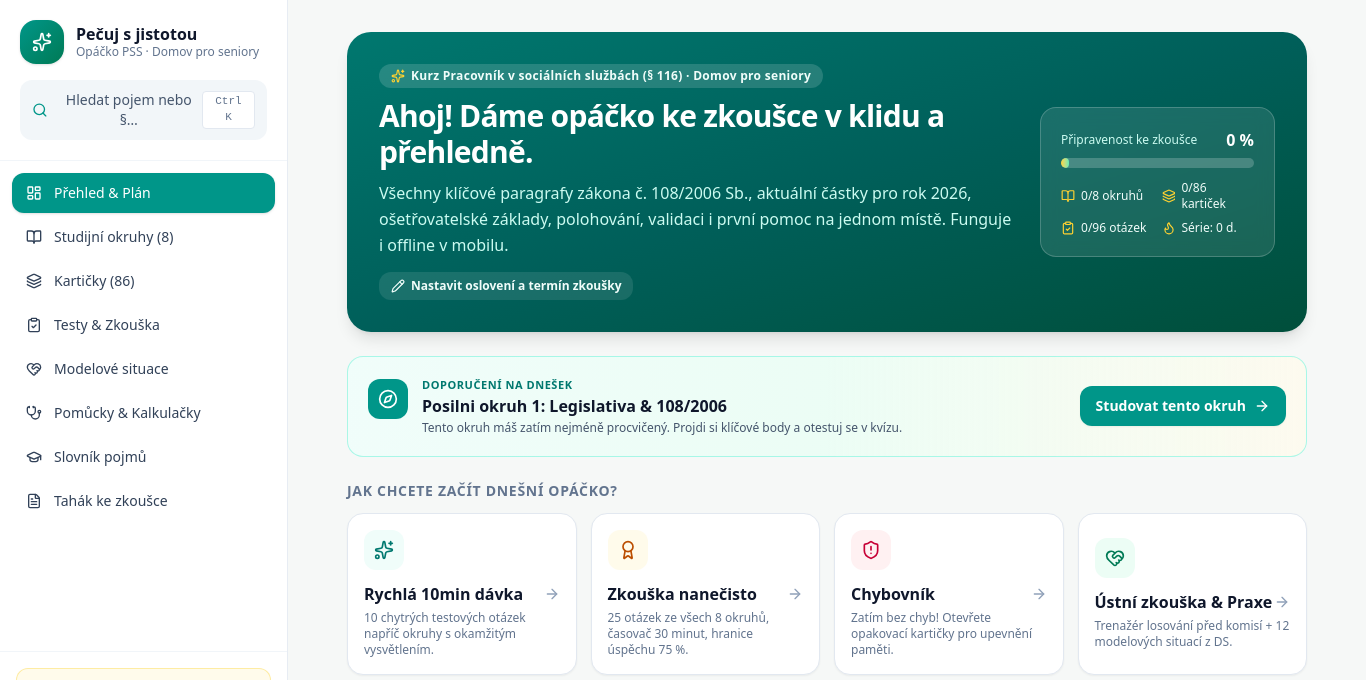
Test: End-to-End UI Integration Flows (<App />) › runs Practice Quiz with immediate explanation and Zkouška nanečisto (25 questions)
This screenshot has width=1366, height=680.
Quick10 from Dashboard
Click the button "Rychlá 10min dávka".
click(462, 594)  # box [347,512,576,674]
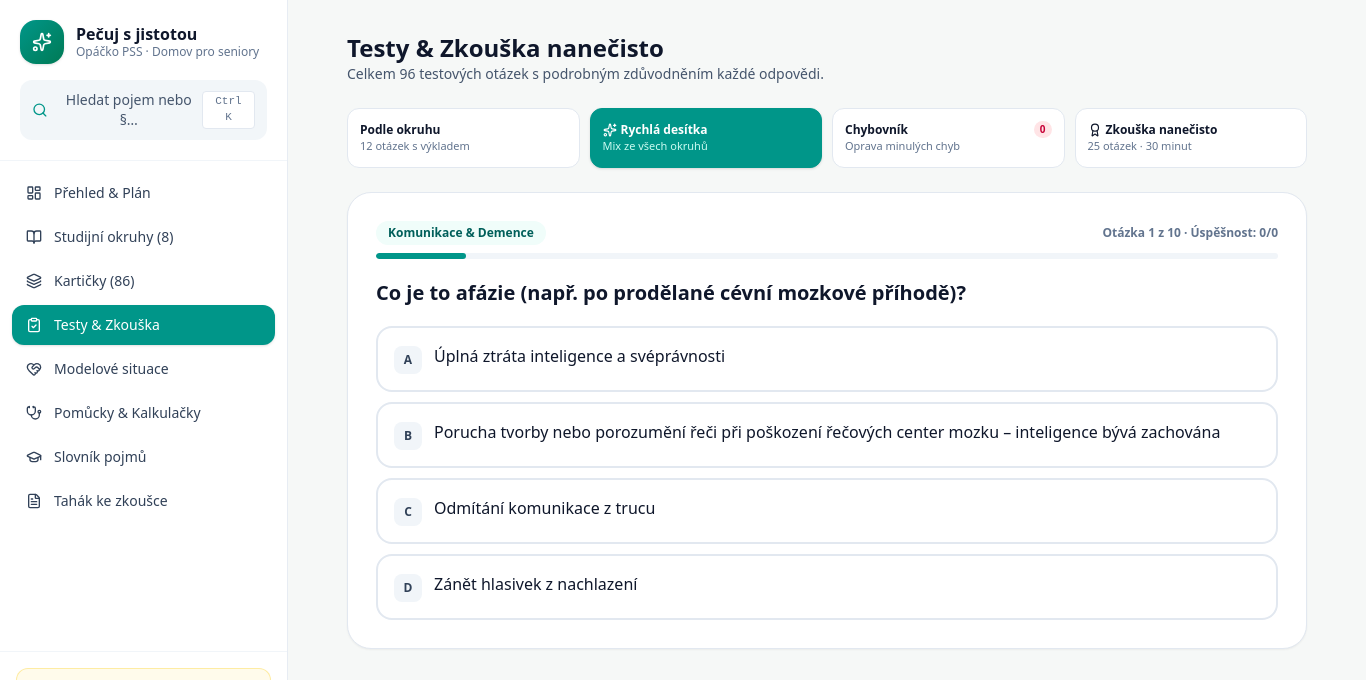
Now the text "Otázka 1 z 10 · Úspěšnost: 0/0" is shown, box [1102,225,1278,241]
Click option A (button starting with A)
Click the button "A Úplná ztráta inteligence a svéprávnosti".
click(580, 356)  # box [376,326,1278,392]
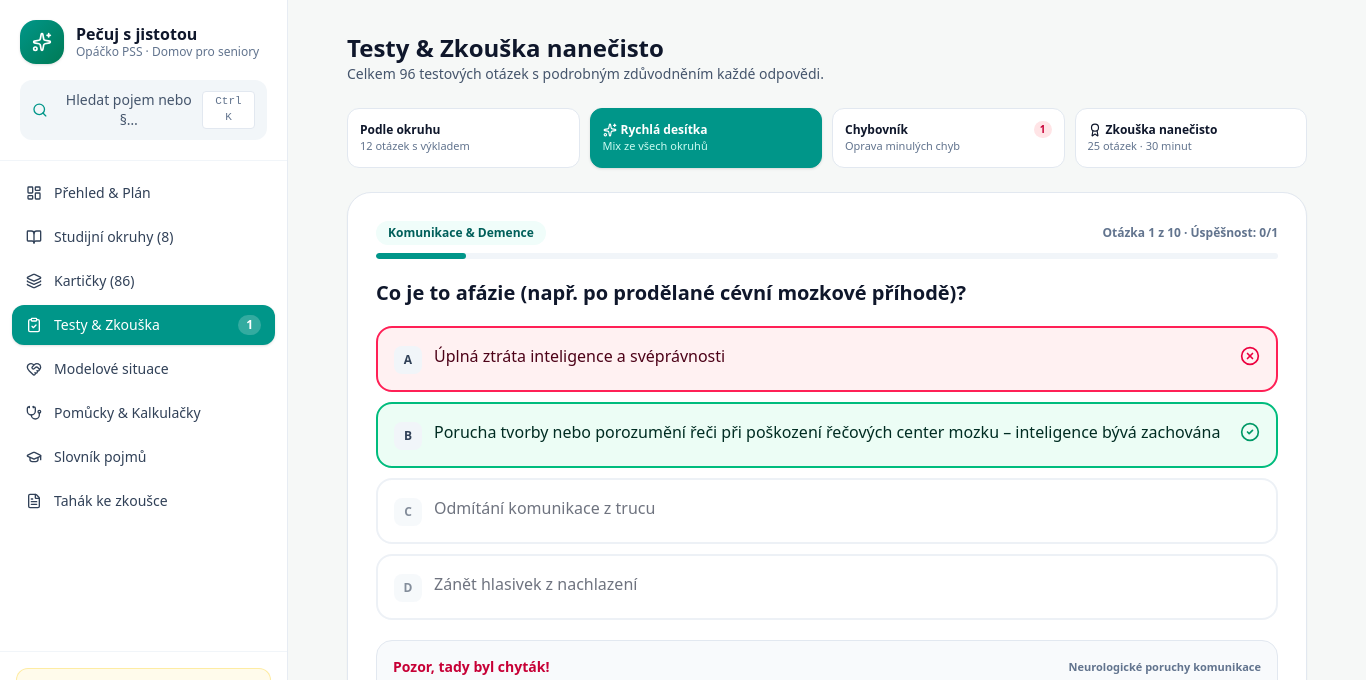
Now the text "Pozor, tady byl chyták!" is shown, box [393,657,549,677]
Switch to Zkouška nanečisto
Click the button "Zkouška nanečisto 25 otázek · 30 minut".
click(1191, 138)  # box [1074,108,1307,168]
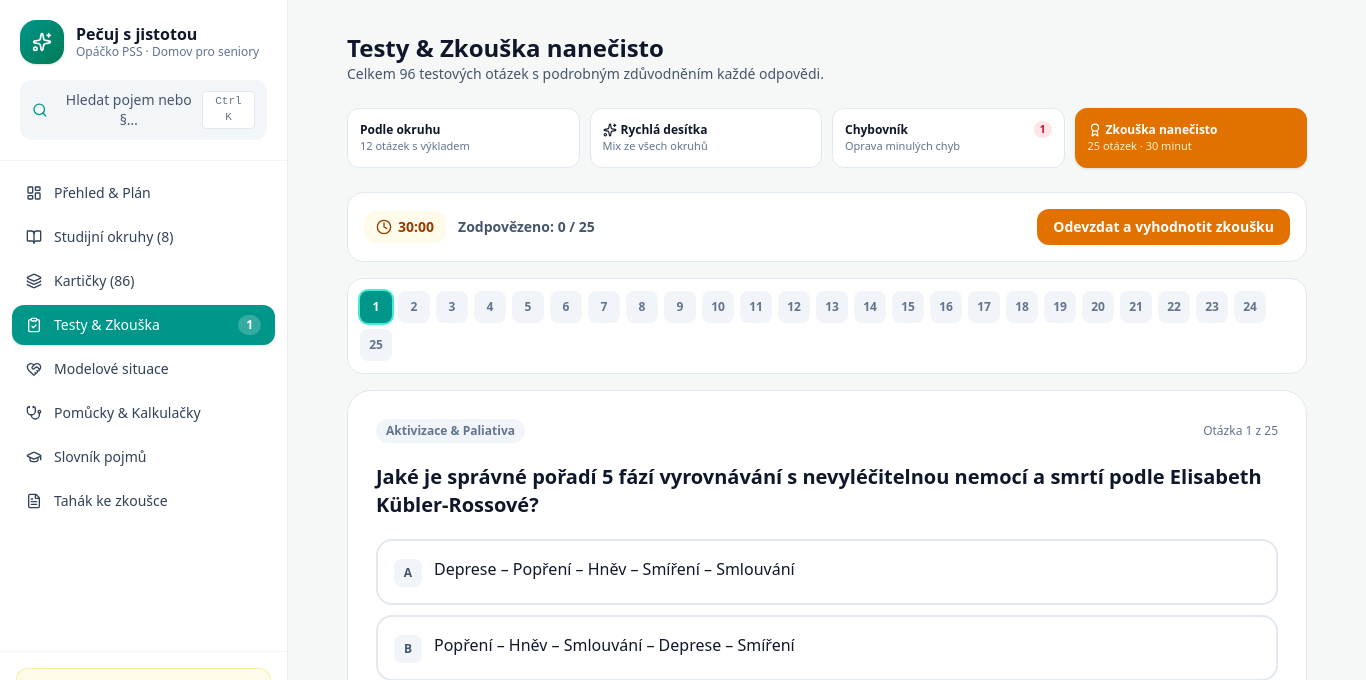
Now the text "Zodpovězeno: 0 / 25" is shown, box [458,217,595,237]
Select an answer and submit exam
Click the button "A Deprese – Popření – Hněv – Smíření – Smlouvání".
click(614, 569)  # box [376,539,1278,605]
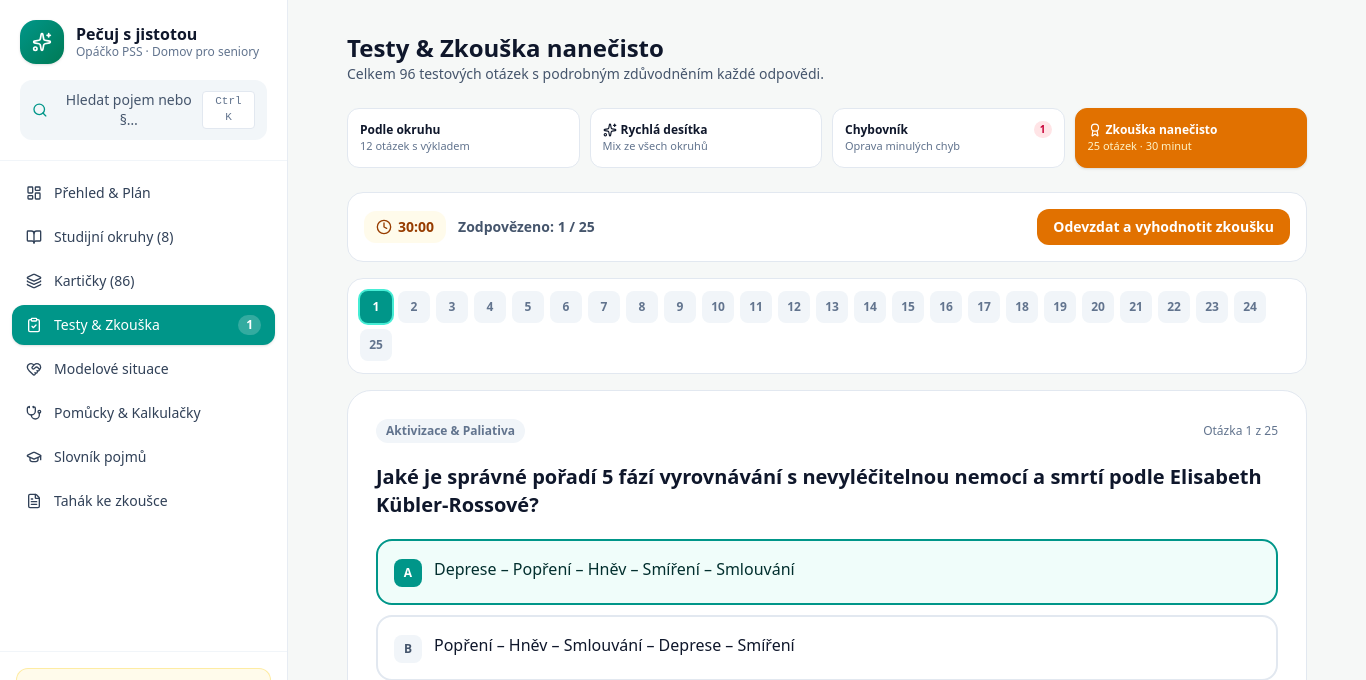
Now the text "Zodpovězeno: 1 / 25" is shown, box [458,217,595,237]
Click the button "Odevzdat a vyhodnotit zkoušku".
click(1164, 227)  # box [1037,209,1290,245]
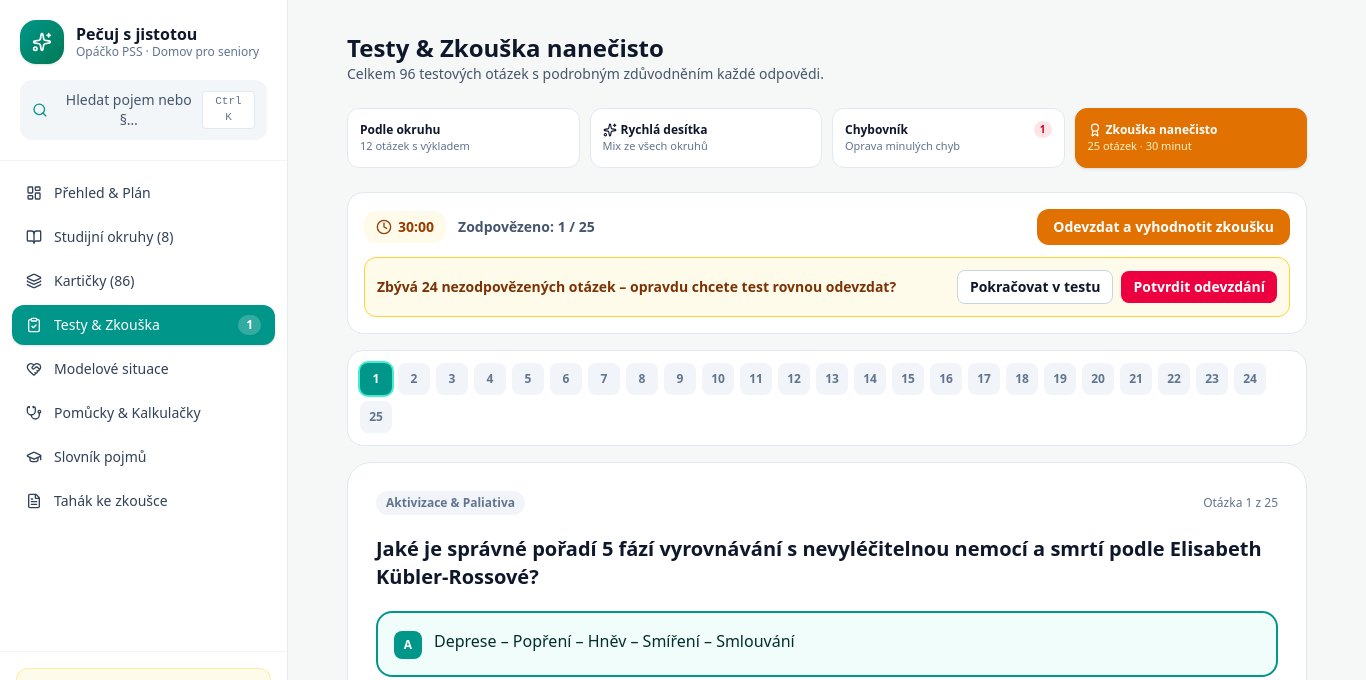
Now the text "Zbývá 24 nezodpovězených otázek" is shown, box [377,277,896,297]
Click the button "Potvrdit odevzdání".
click(1199, 287)  # box [1122,271,1277,303]
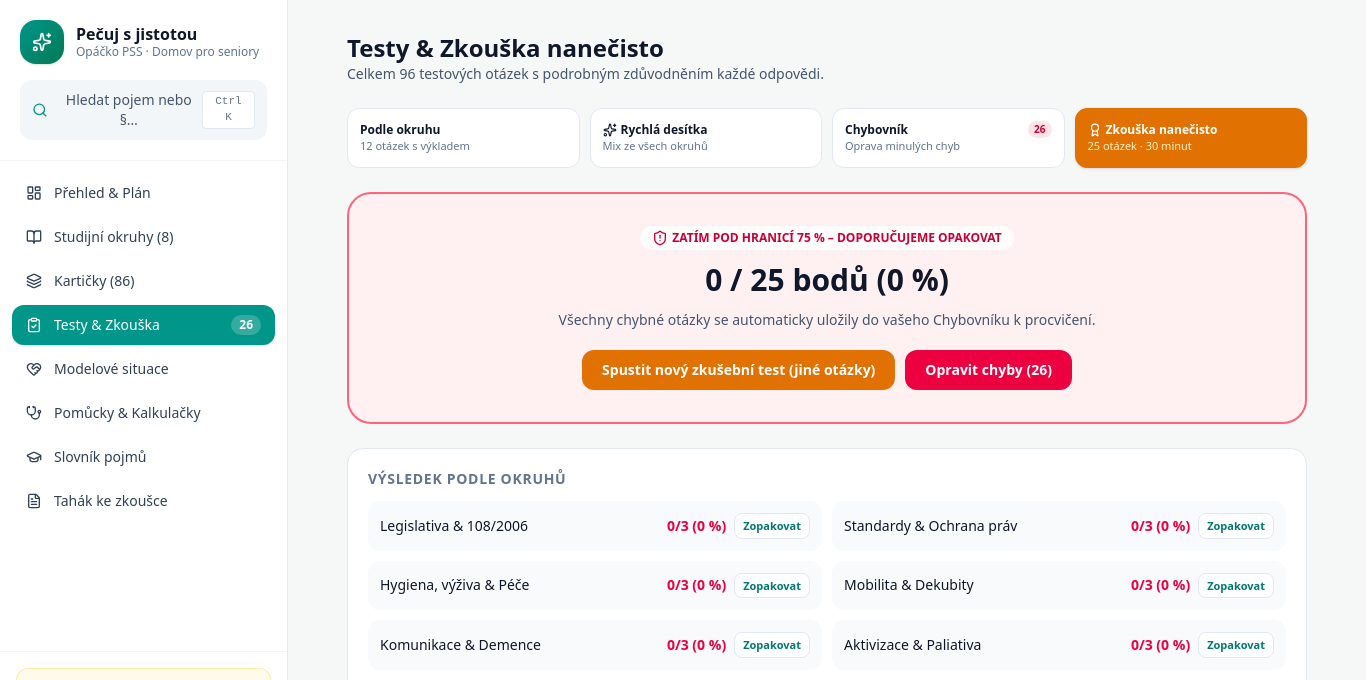
Now the heading "0 / 25 bodů (0 %)" is shown, box [705,259,949,300]
Now the heading "Výsledek podle okruhů" is shown, box [368,469,566,488]
